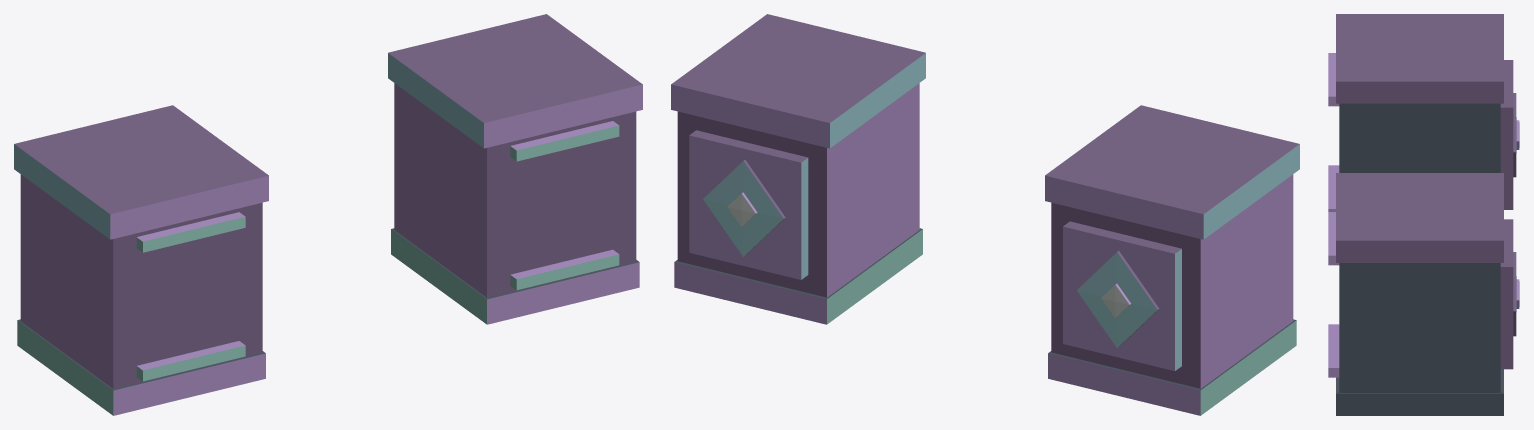
The model's file is prism_bracers.glb.
The picture shows the model from 3 angles, left to right: view 1: azimuth 30°, elevation 25°; view 2: azimuth 150°, elevation 25°; view 3: azimuth 270°, elevation 25°; orthographic projection. The views are drawn at different scales.
Parts seen in each view (by area): view 1: rightArm, leftArm; view 2: rightArm, leftArm; view 3: leftArm, rightArm.
Boxes of the visible parts, left/top/right/bottom form: rightArm: left=14, top=105, right=268, bottom=415; leftArm: left=388, top=14, right=642, bottom=324; rightArm: left=1045, top=105, right=1299, bottom=415; leftArm: left=671, top=14, right=925, bottom=324; leftArm: left=1328, top=173, right=1519, bottom=415; rightArm: left=1328, top=14, right=1519, bottom=211.
Bounding box in the file's own units: 17.1 × 6.21 × 6.11.
